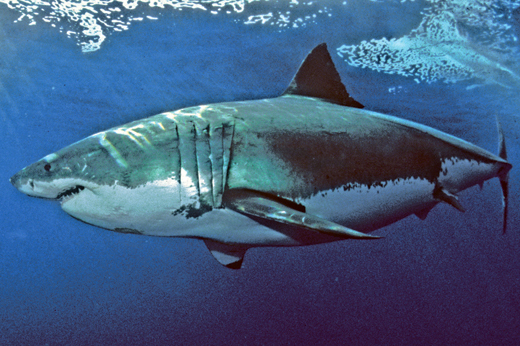Carcharodon_carcharias: (1, 42, 520, 284)
